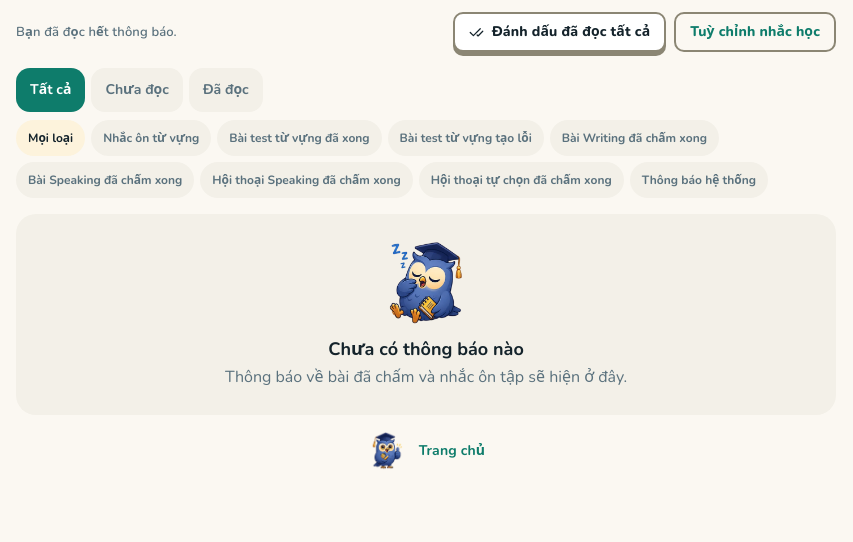
Scenario: NotificationCenterPage › distinguishes "no notifications" from "nothing matched"
Check: the heading "Chưa có thông báo nào" is shown, box [328,338,524,361]
Click the button "Chưa đọc" at (137, 90), box [91,68,183,112]
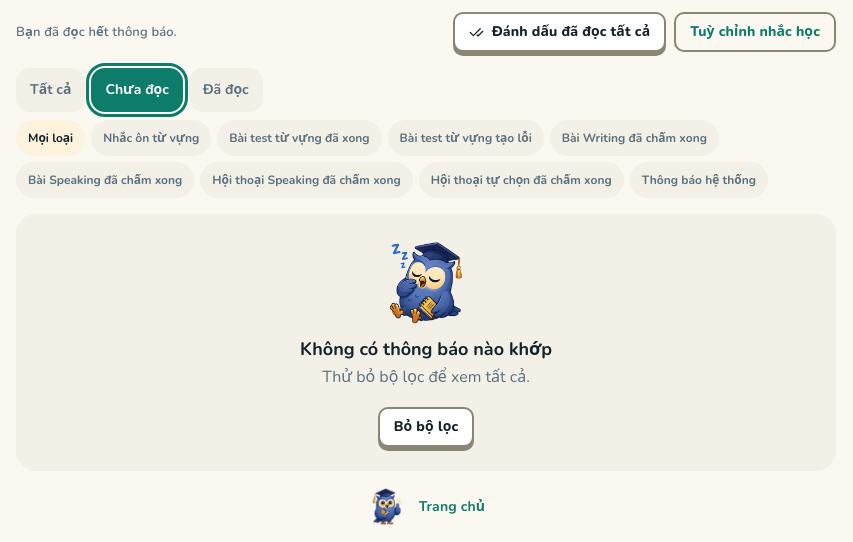
Check: the heading "Không có thông báo nào khớp" is shown, box [300,338,552,361]
